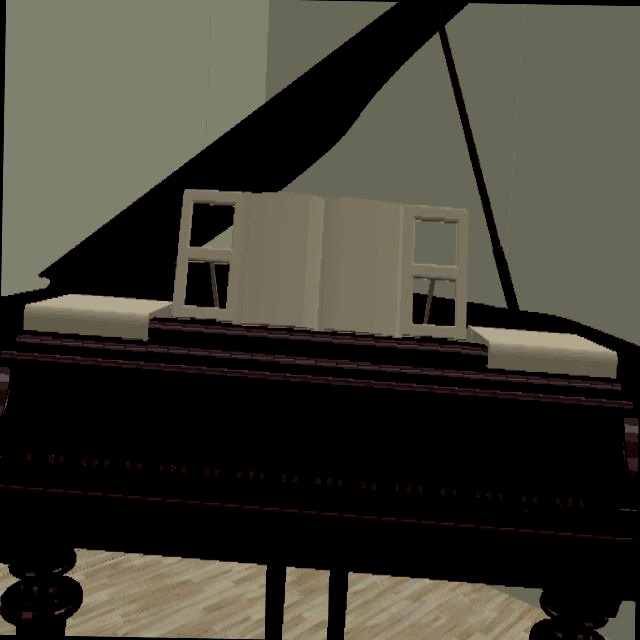book: (148, 190, 487, 365), (470, 324, 619, 380), (23, 294, 170, 339)
